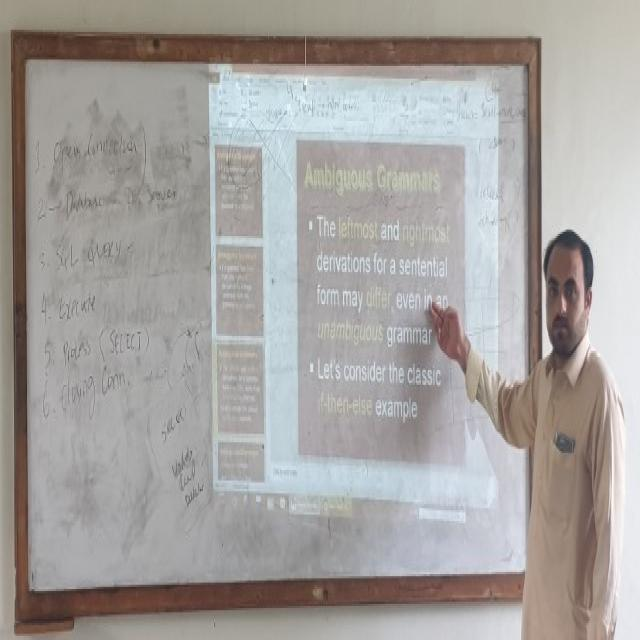Instructor: (509, 181, 622, 640)
Slide: (210, 48, 500, 538)
White-board: (16, 45, 539, 608)
